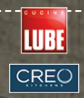creo: (7, 63, 81, 94)
lube: (19, 6, 69, 56)
lube creo: (6, 3, 81, 94)
